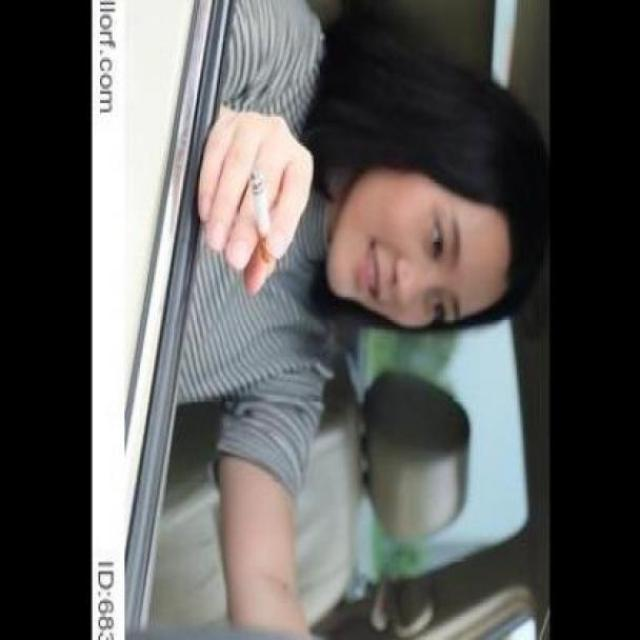rokok: (246, 165, 270, 248)
